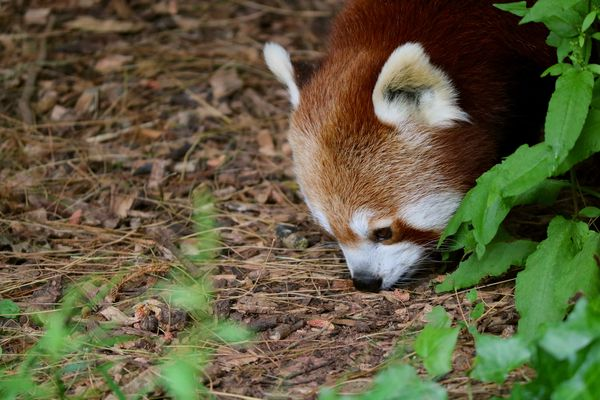red_panda: (260, 0, 559, 296)
